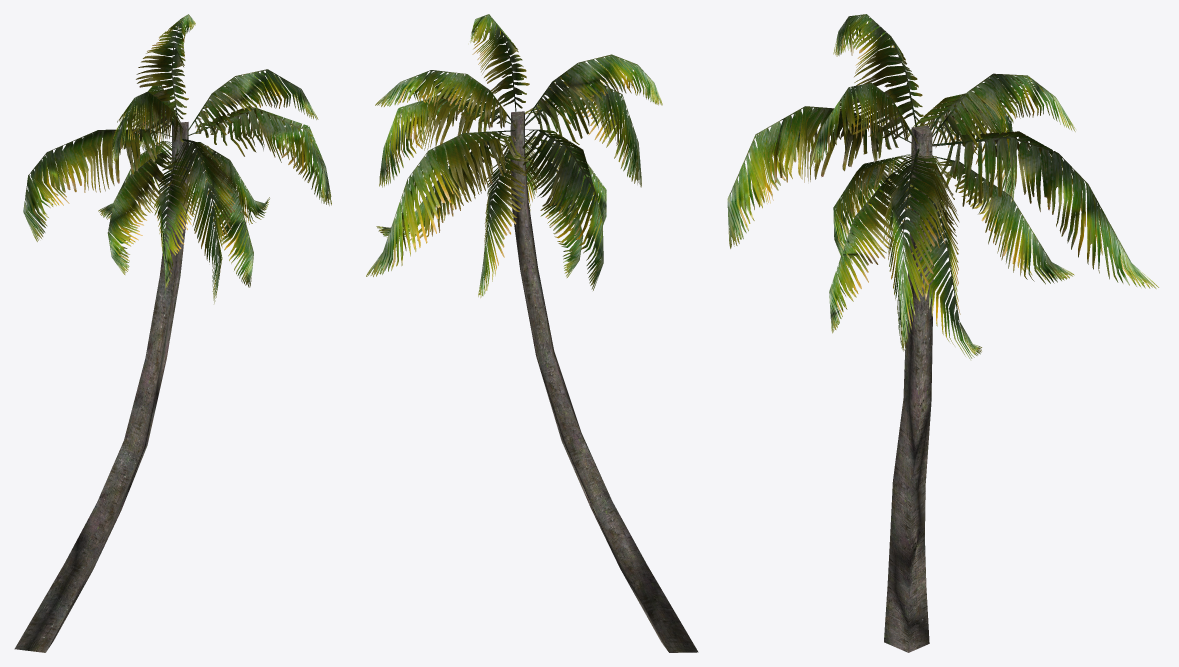
The model's file is Vegetation_Yztree03.glb.
The picture shows the model from 3 angles, left to right: view 1: azimuth 30°, elevation 25°; view 2: azimuth 150°, elevation 25°; view 3: azimuth 270°, elevation 25°; orthographic projection. The views are drawn at different scales.
Parts seen in each view (by area): view 1: xiutz_yztree03; view 2: xiutz_yztree03; view 3: xiutz_yztree03.
Part boxes in pixels (x1,y1,x2,y2): xiutz_yztree03: (14, 14, 331, 652); xiutz_yztree03: (366, 14, 698, 652); xiutz_yztree03: (727, 14, 1158, 652).
Bounding box in the file's own units: 13.67 × 22.66 × 13.09.
Materials: 1 (1 with a texture image).
